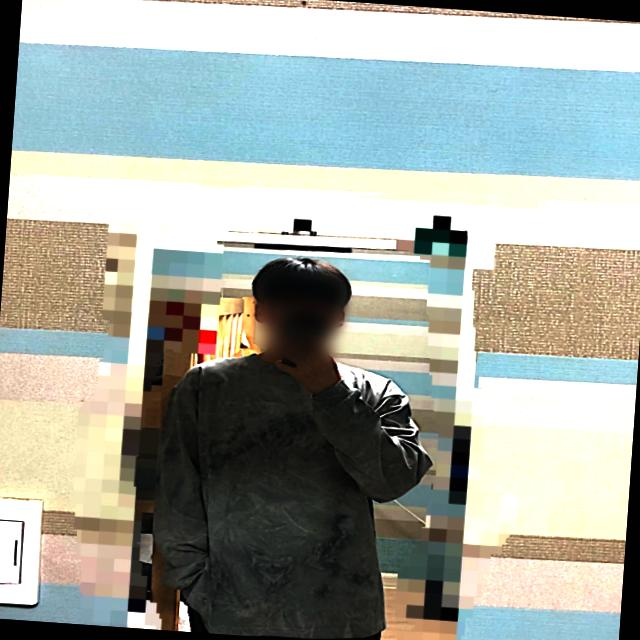longsleeve: (141, 345, 435, 640)
